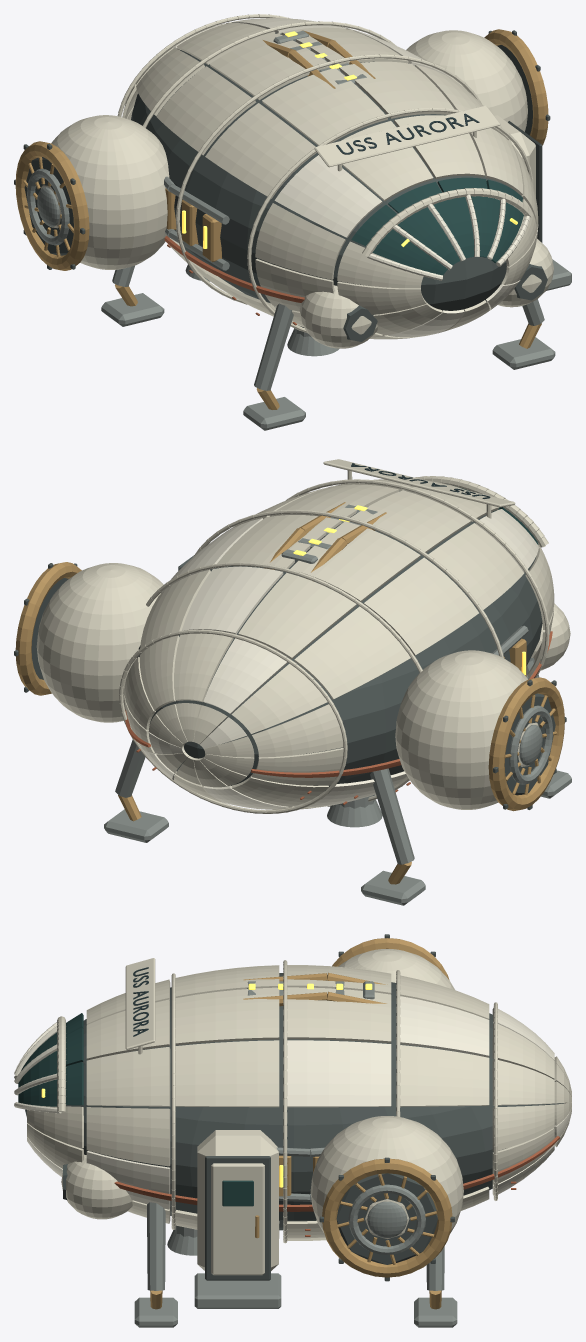
3 renders of one model, top to bottom at view 1: azimuth 30°, elevation 25°; view 2: azimuth 150°, elevation 25°; view 3: azimuth 270°, elevation 25°, orthographic. The views are drawn at different scales.
Parts seen in each view (by area): view 1: RE-073 Aurora large shell VTOL ferry batched; view 2: RE-073 Aurora large shell VTOL ferry batched; view 3: RE-073 Aurora large shell VTOL ferry batched.
Boxes of the visible parts, bbox=[...] form: RE-073 Aurora large shell VTOL ferry batched: bbox=[14, 14, 571, 430]; RE-073 Aurora large shell VTOL ferry batched: bbox=[14, 459, 571, 905]; RE-073 Aurora large shell VTOL ferry batched: bbox=[14, 934, 571, 1327].
Size of the model in its own units: 12.75 by 7.17 by 13.09.
